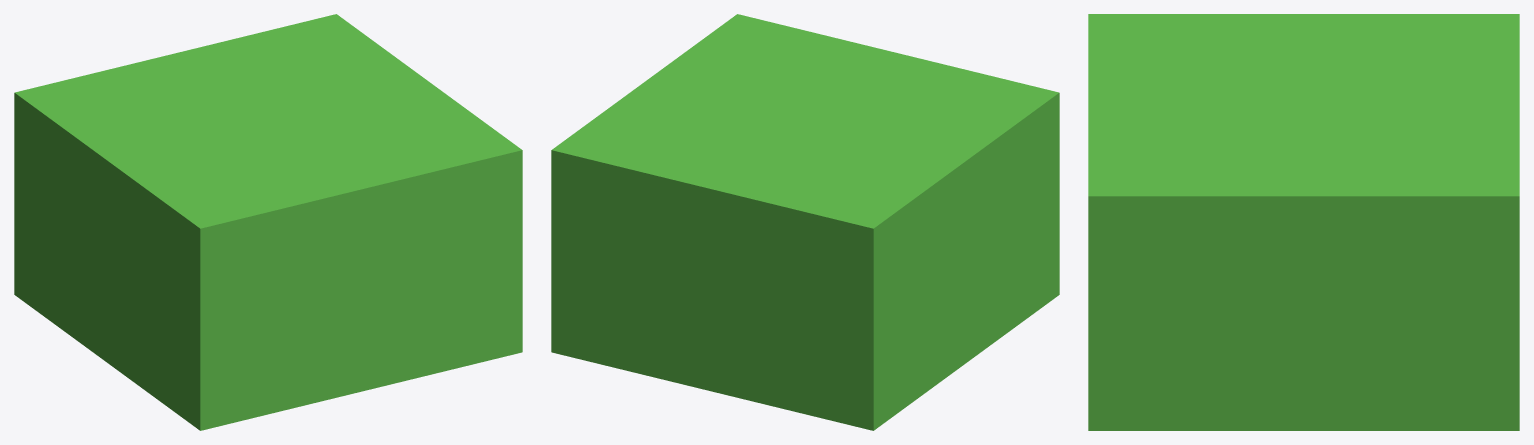
File: clip.glb
3 renders of one model, left to right at view 1: azimuth 30°, elevation 25°; view 2: azimuth 150°, elevation 25°; view 3: azimuth 270°, elevation 25°, orthographic. The views are drawn at different scales.
Visible parts, largest first — view 1: Clip; view 2: Clip; view 3: Clip.
Part boxes in pixels (<box>): Clip: <box>14,14,522,430</box>; Clip: <box>551,14,1059,430</box>; Clip: <box>1088,14,1519,430</box>.
Size of the model in its own units: 0.11 by 0.066 by 0.11.
